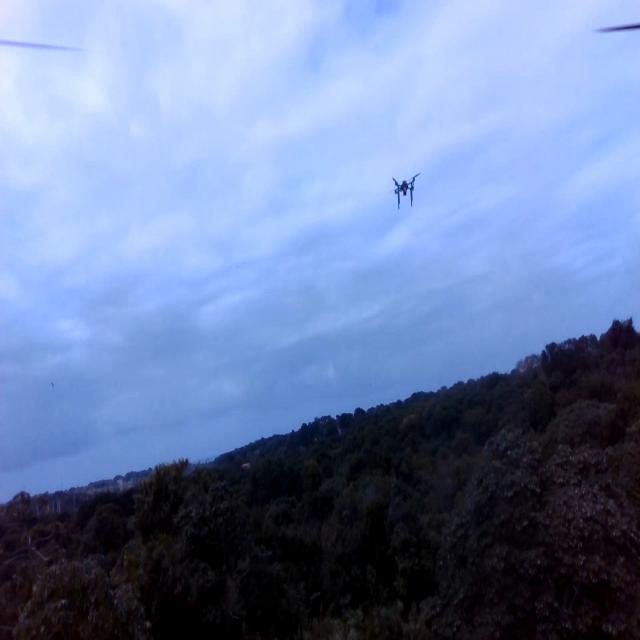-uav-: (384, 157, 425, 233)
